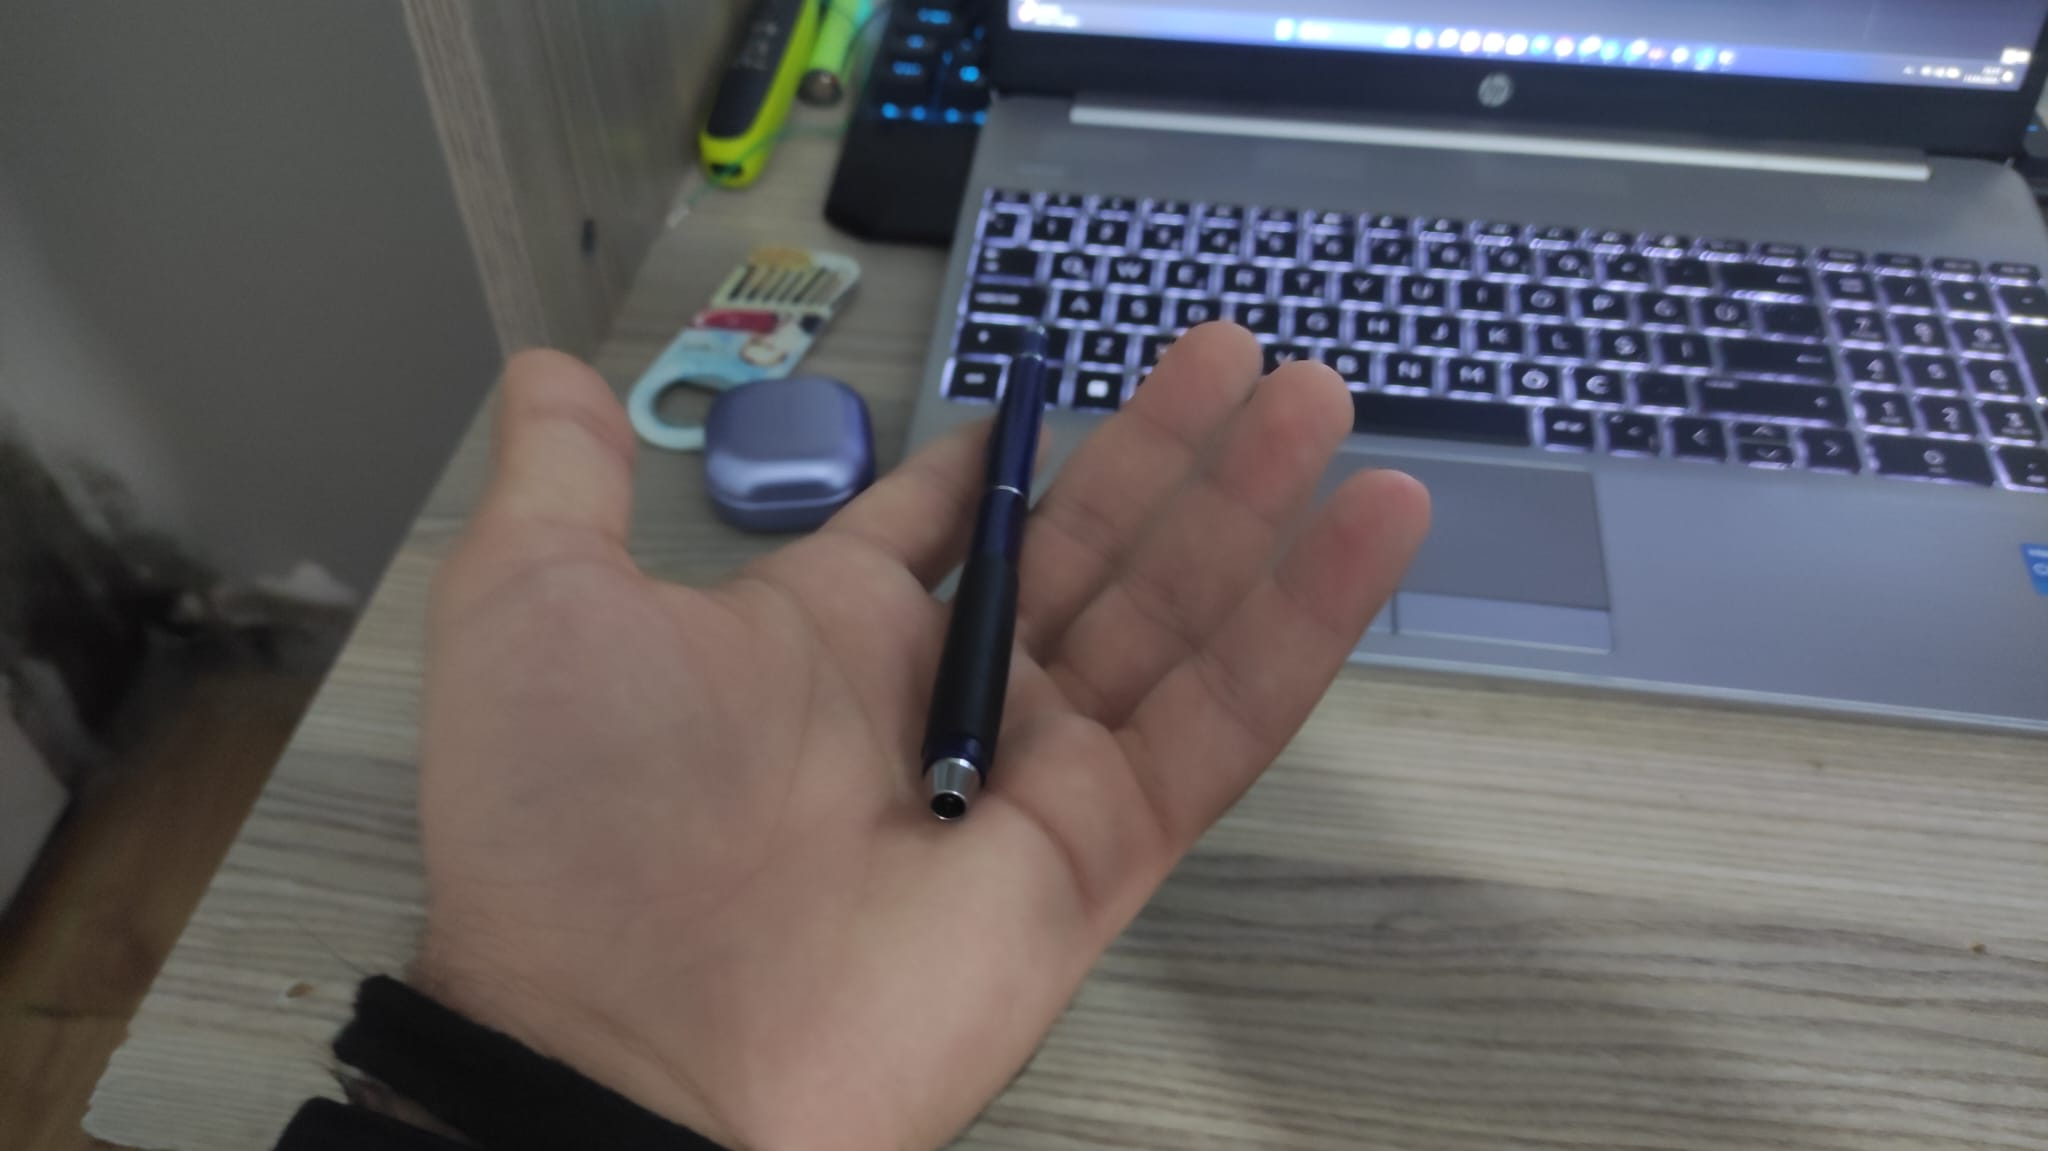kalem: (914, 321, 1052, 827)
